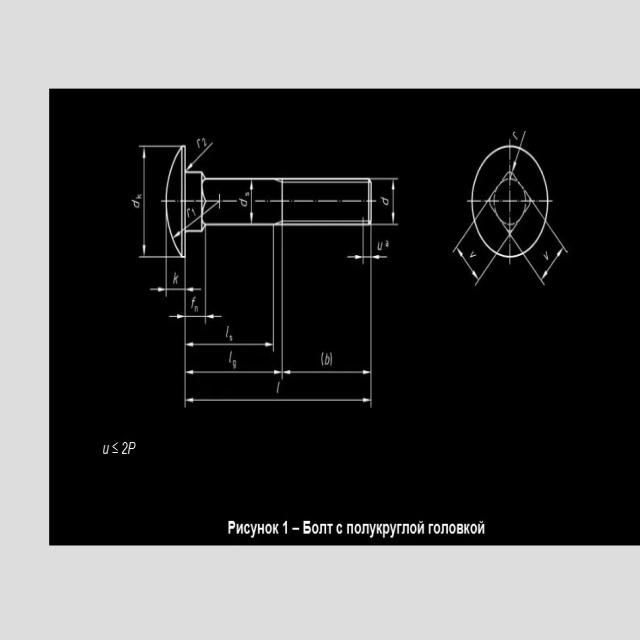marking_line: (186, 396, 369, 403), (186, 134, 217, 172), (188, 340, 274, 350), (541, 245, 563, 282), (140, 147, 147, 258), (455, 248, 479, 280), (283, 369, 370, 375), (186, 369, 279, 374), (390, 183, 397, 222), (148, 283, 166, 295), (344, 252, 363, 262), (207, 312, 224, 323), (165, 313, 185, 321), (184, 286, 202, 294), (373, 253, 388, 259)
